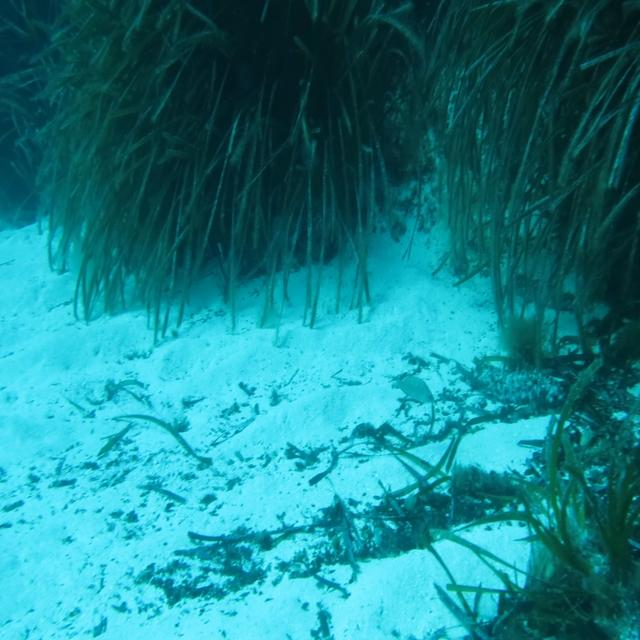SA: (386, 366, 438, 414)
vegetation: (0, 0, 640, 306), (410, 330, 640, 640)
